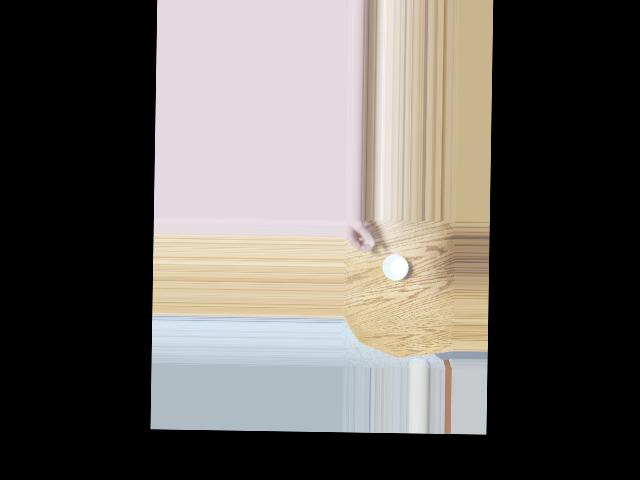cotage: (379, 249, 408, 283)
